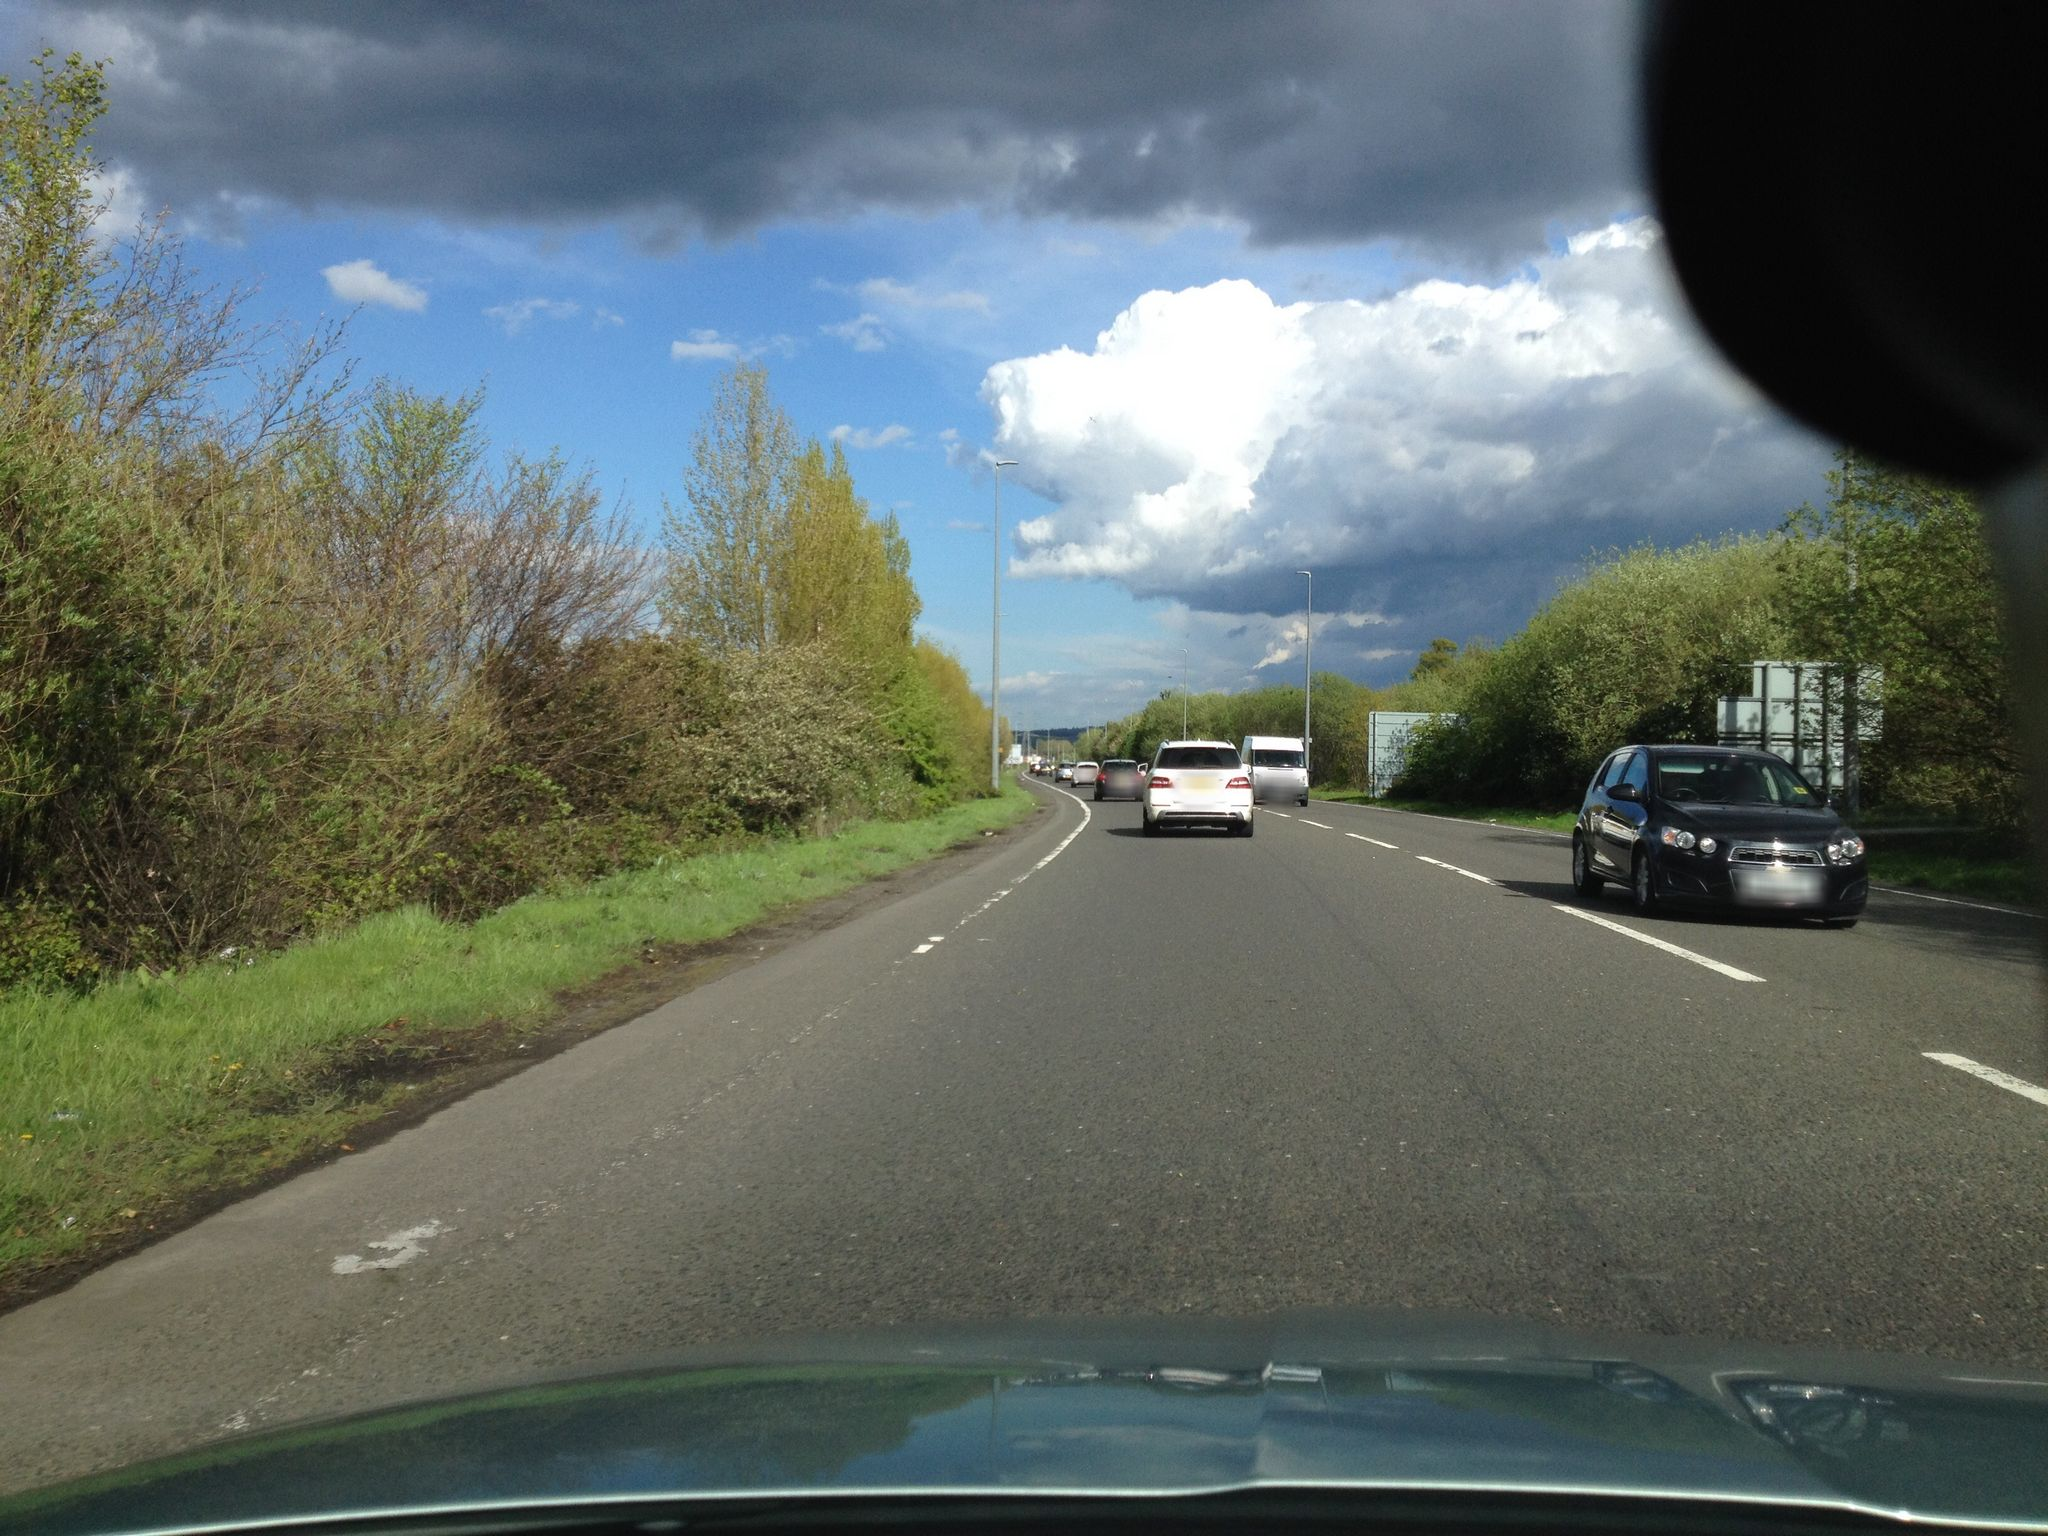car: (1571, 744, 1867, 928), (1135, 737, 1255, 839), (1238, 736, 1309, 807), (1092, 758, 1143, 800), (1069, 762, 1100, 787), (1053, 762, 1074, 783)
